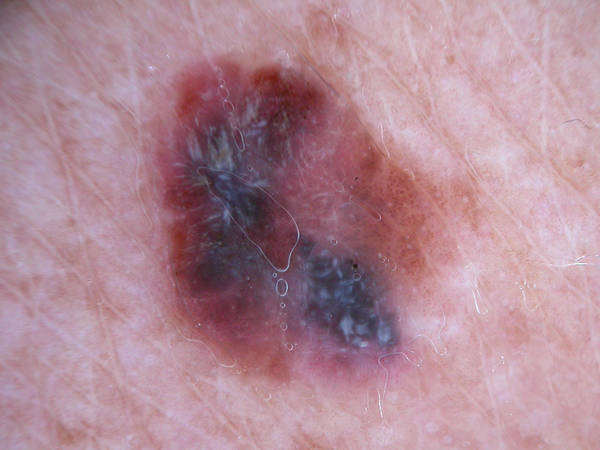Detected Lesion: (151, 53, 431, 394)
